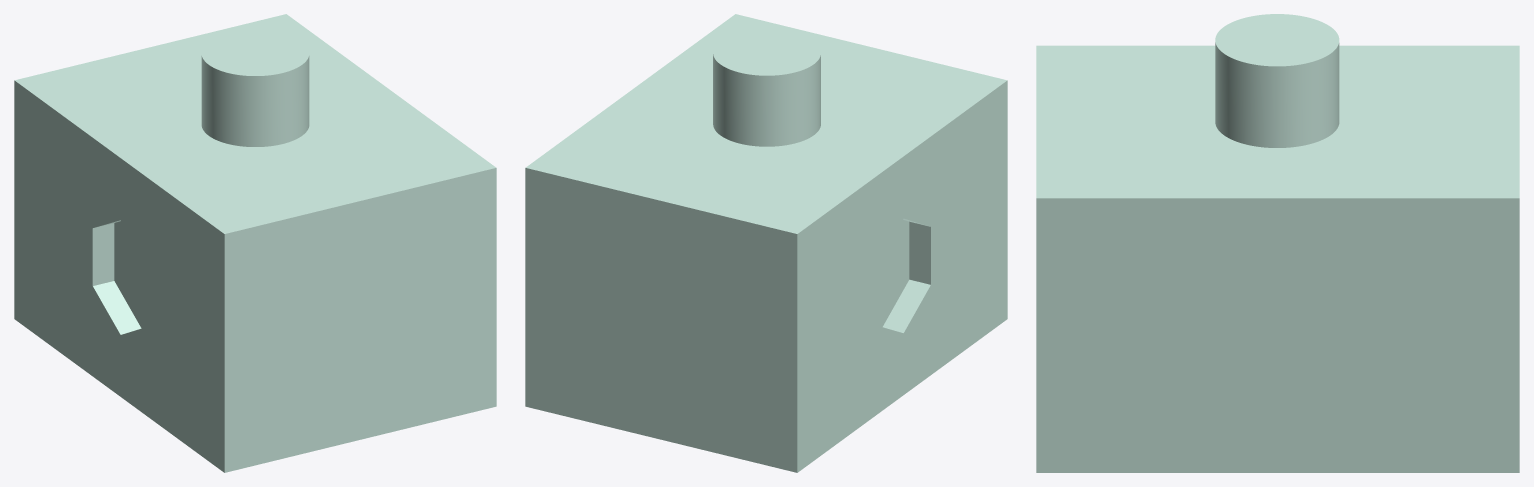
3 views of the same model, side by side, from view 1: azimuth 30°, elevation 25°; view 2: azimuth 150°, elevation 25°; view 3: azimuth 270°, elevation 25° (orthographic). The views are drawn at different scales.
Parts seen in each view (by area): view 1: Renderer Node; view 2: Renderer Node; view 3: Renderer Node.
Part boxes in pixels (<box>): Renderer Node: <box>14,14,496,472</box>; Renderer Node: <box>525,14,1007,472</box>; Renderer Node: <box>1036,14,1519,472</box>.
Size of the model in its own units: 0.689 by 0.75 by 0.9219.
